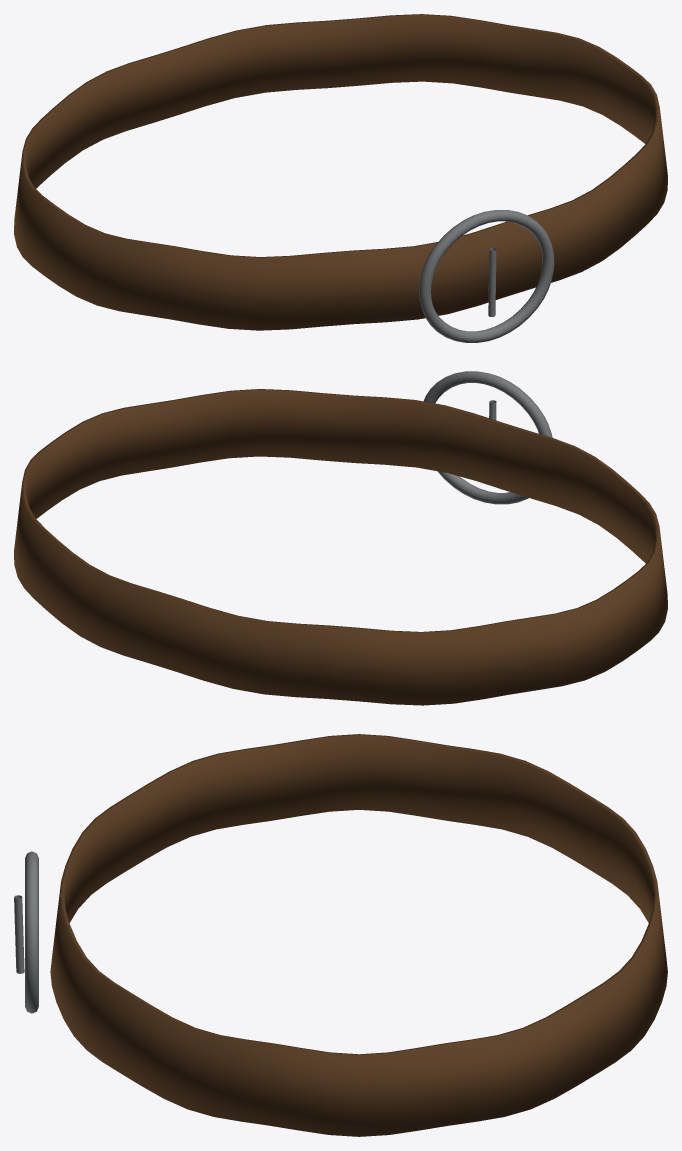
File: accessory-fantasy-waist.glb
3 renders of one model, top to bottom at view 1: azimuth 30°, elevation 25°; view 2: azimuth 150°, elevation 25°; view 3: azimuth 270°, elevation 25°, orthographic. The views are drawn at different scales.
Parts seen in each view (by area): view 1: Leather belt; view 2: Leather belt; view 3: Leather belt.
Boxes of the visible parts, bbox=[...] form: Leather belt: bbox=[14, 14, 667, 342]; Leather belt: bbox=[14, 371, 667, 705]; Leather belt: bbox=[14, 734, 667, 1136].
Bounding box in the file's own units: 0.334 × 0.0695 × 0.2838.
